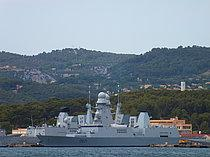MIL_Ship: (35, 91, 182, 147)
